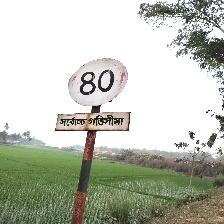Speed-limit: (56, 57, 131, 133)
